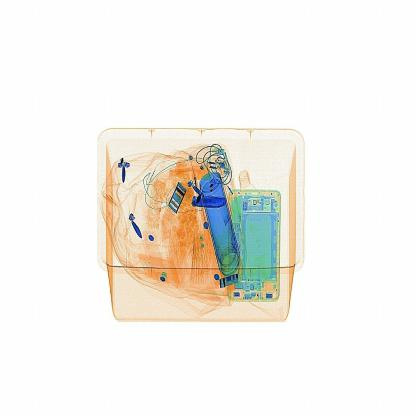knife: (181, 190, 231, 212)
